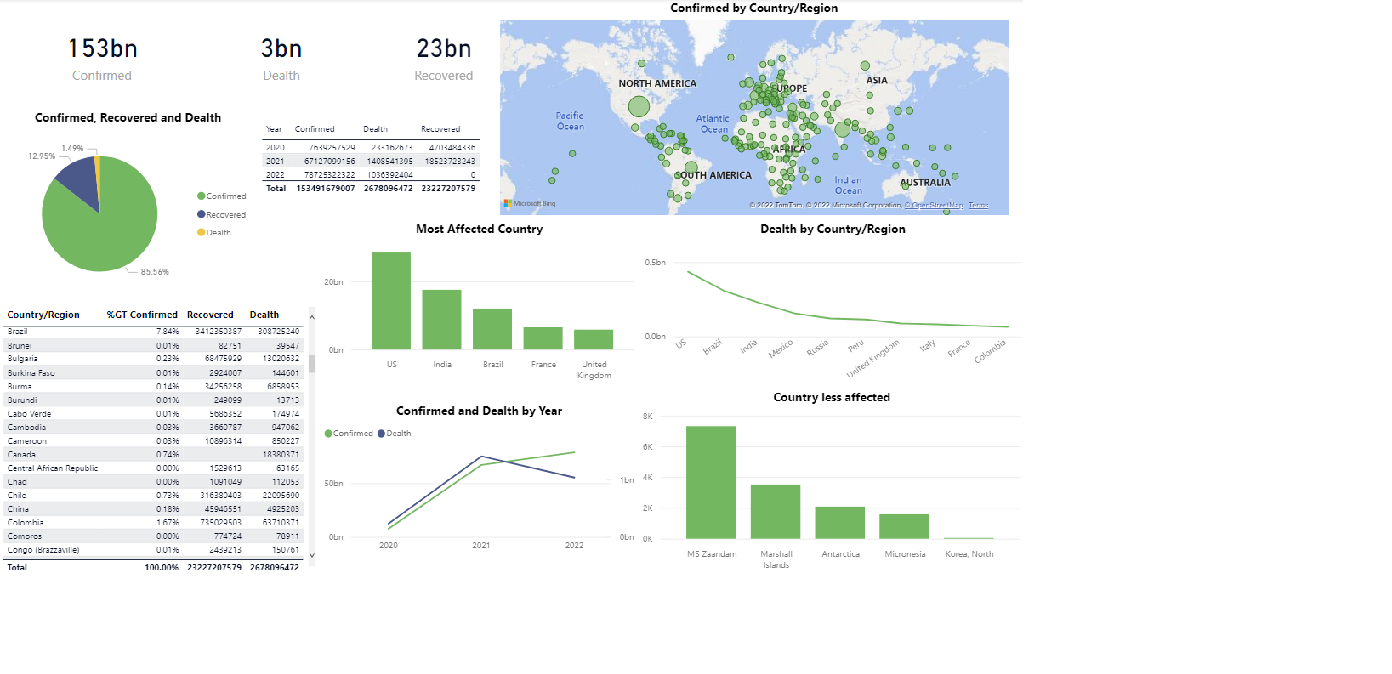

The page's visual inventory and layout, read from the dashboard file:
{"tool":"powerbi","page":{"name":"Page 1","canvas":[1280,720],"ordinal":0},"visuals":[{"type":"tableEx","fields":{"Values":["Covid 19.Country/Region","Sum(Covid 19.Confirmed)","Sum(Covid 19.Recovered)","Sum(Covid 19.Dealth)"]},"box":[0,378.3,400.5,341.7],"z":0},{"type":"pieChart","fields":{"Y":["Sum(Covid 19.Confirmed)","Sum(Covid 19.Recovered)","Sum(Covid 19.Dealth)"]},"box":[0,136.7,323.3,241.7],"z":1000},{"type":"lineChart","fields":{"Category":["Covid 19.Year"],"Y":["Sum(Covid 19.Confirmed)"],"Y2":["Sum(Covid 19.Dealth)"]},"box":[400.5,502.3,397.4,197.1],"z":2000},{"type":"tableEx","fields":{"Values":["Covid 19.Year","Sum(Covid 19.Confirmed)","Sum(Covid 19.Dealth)","Sum(Covid 19.Recovered)"]},"box":[322.9,148.6,297.1,108.6],"z":3000},{"type":"columnChart","title":"Most Affected Country","fields":{"Category":["Covid 19.Country/Region"],"Y":["Sum(Covid 19.Confirmed)"]},"box":[400.5,275,397.4,209.8],"z":4000},{"type":"columnChart","title":"Country less affected","fields":{"Y":["Sum(Covid 19.Confirmed)"],"Category":["Covid 19.Country/Region"]},"box":[798.6,484.3,481.4,235.7],"z":5000},{"type":"lineChart","fields":{"Category":["Covid 19.Country/Region"],"Y":["Sum(Covid 19.Dealth)"]},"box":[799.1,274.6,480.9,210.2],"z":6000},{"type":"map","fields":{"Category":["Covid 19.Country/Region"],"Size":["Sum(Covid 19.Confirmed)"]},"box":[620,0,644,274],"z":7000},{"type":"card","fields":{"Values":["Sum(Covid 19.Confirmed)"]},"box":[6,0,245.9,136],"z":8000},{"type":"card","fields":{"Values":["Sum(Covid 19.Dealth)"]},"box":[251.7,0,202.9,136.6],"z":9000},{"type":"card","fields":{"Values":["Sum(Covid 19.Recovered)"]},"box":[454.6,0,201,136.6],"z":10000}]}

Visuals, with their boxes on the page's 1280x720 design canvas (x1, y1, x2, y2). These are canvas units, not pixel positions in the 1392x674 screenshot, which may show the page scaled, cropped or inside an application window:
tableEx - Covid 19.Country/Region x Sum(Covid 19.Confirmed): (0, 378, 400, 720)
pieChart - Sum(Covid 19.Confirmed) x Sum(Covid 19.Recovered): (0, 137, 323, 378)
lineChart - Covid 19.Year x Sum(Covid 19.Confirmed): (400, 502, 798, 699)
tableEx - Covid 19.Year x Sum(Covid 19.Confirmed): (323, 149, 620, 257)
"Most Affected Country" columnChart: (400, 275, 798, 485)
"Country less affected" columnChart: (799, 484, 1280, 720)
lineChart - Covid 19.Country/Region x Sum(Covid 19.Dealth): (799, 275, 1280, 485)
map - Covid 19.Country/Region x Sum(Covid 19.Confirmed): (620, 0, 1264, 274)
card - Sum(Covid 19.Confirmed): (6, 0, 252, 136)
card - Sum(Covid 19.Dealth): (252, 0, 455, 137)
card - Sum(Covid 19.Recovered): (455, 0, 656, 137)
